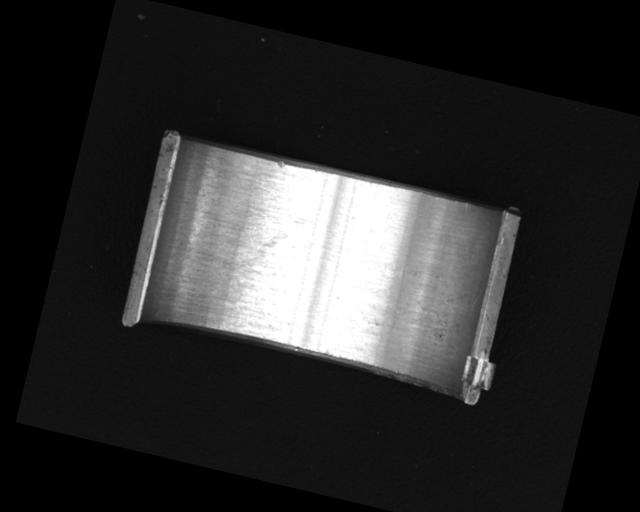bruise: (274, 159, 287, 170)
